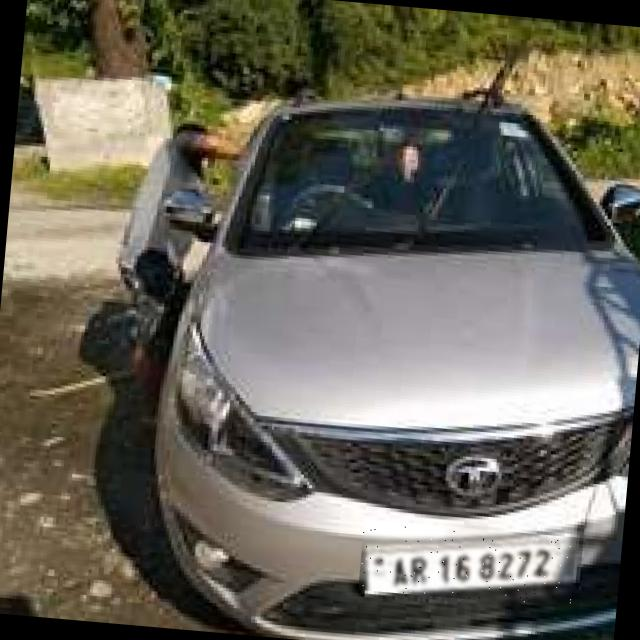Plate: (359, 520, 577, 609)
